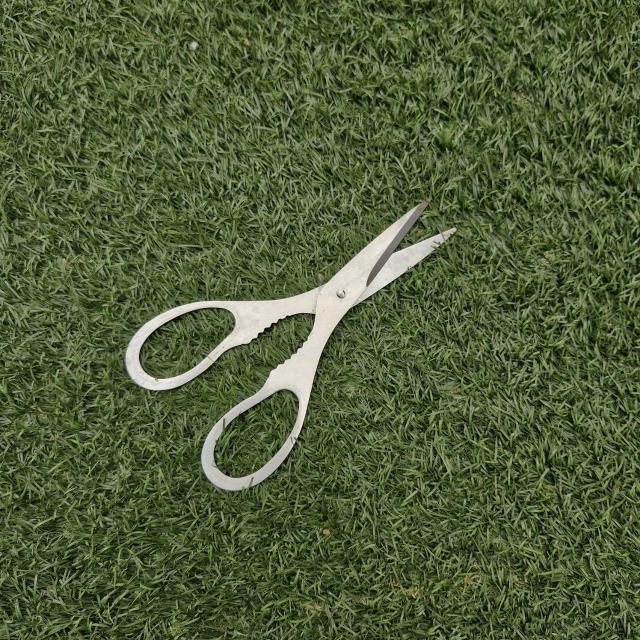metal: (116, 194, 462, 502)
